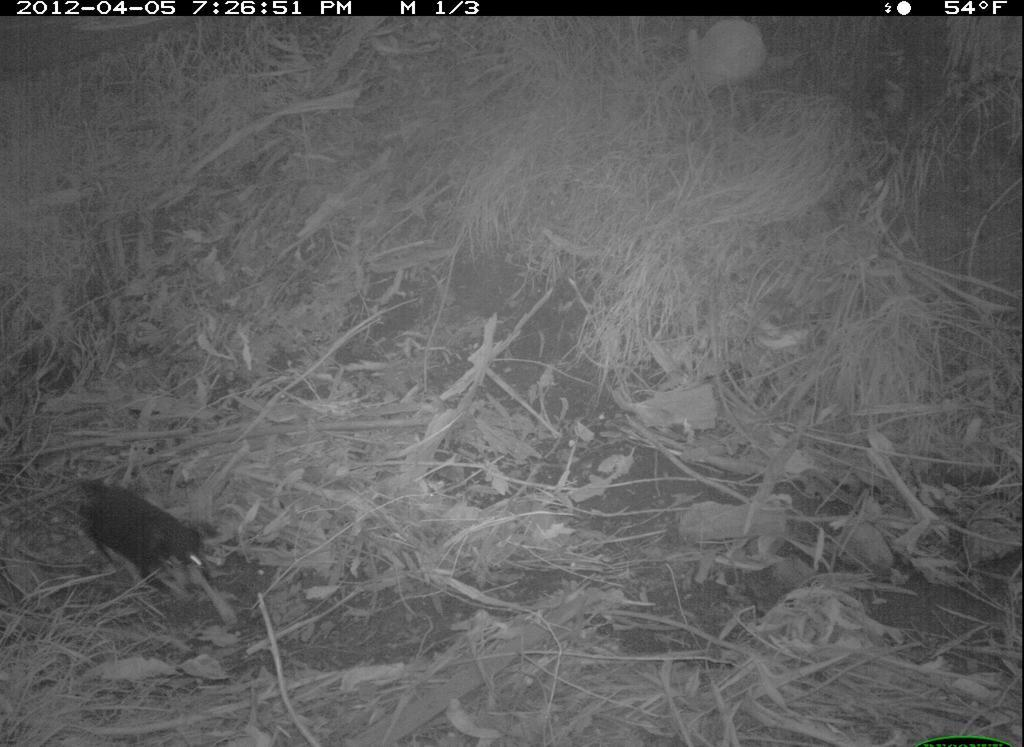dog: (62, 470, 219, 593)
